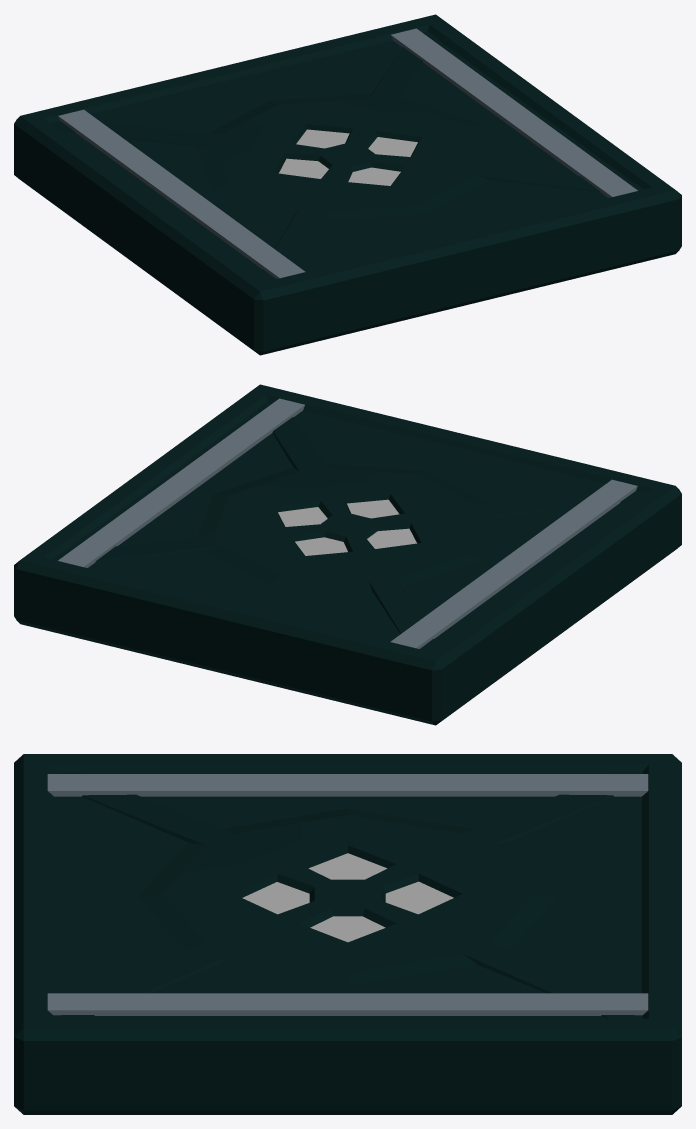
File: Platform_2.fbx
The picture shows the model from 3 angles, top to bottom: view 1: azimuth 30°, elevation 25°; view 2: azimuth 150°, elevation 25°; view 3: azimuth 270°, elevation 25°; orthographic projection. The views are drawn at different scales.
Parts seen in each view (by area): view 1: Platform_2; view 2: Platform_2; view 3: Platform_2.
Part boxes in pixels (x1,y1,x2,y2): Platform_2: [14, 14, 681, 355]; Platform_2: [14, 384, 681, 725]; Platform_2: [14, 754, 681, 1114].
Bounding box in the file's own units: 9.98 × 1.43 × 9.98.
